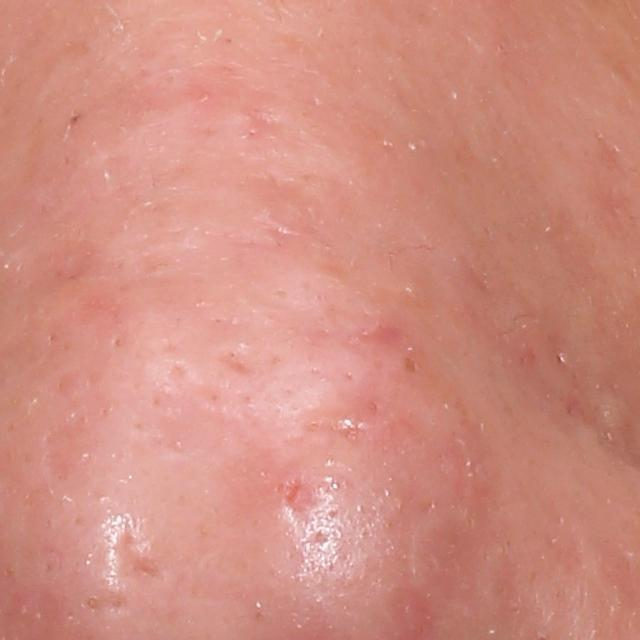atrophic_scar: (108, 521, 170, 599), (214, 345, 258, 378), (277, 472, 308, 517)
